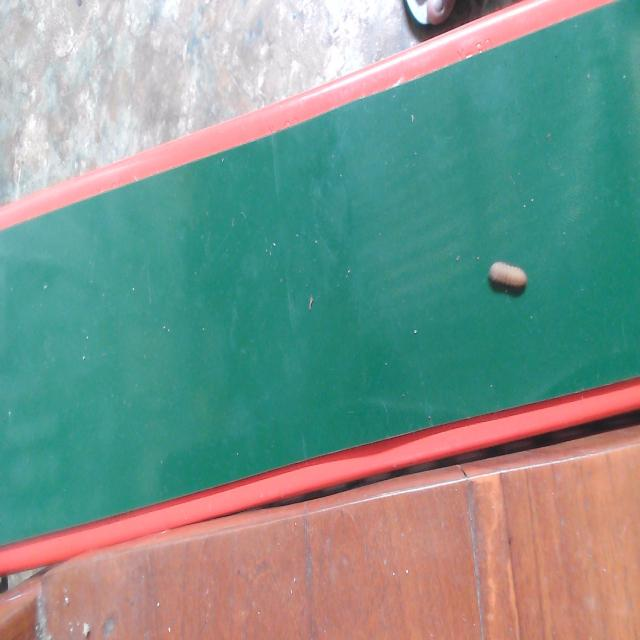Maggot: (482, 255, 531, 302)
